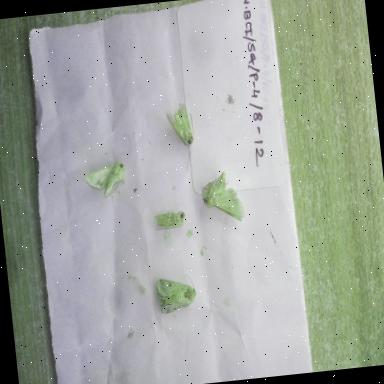abw: (190, 167, 248, 234), (80, 151, 136, 208), (148, 268, 204, 318), (158, 94, 202, 152), (148, 201, 191, 238)
